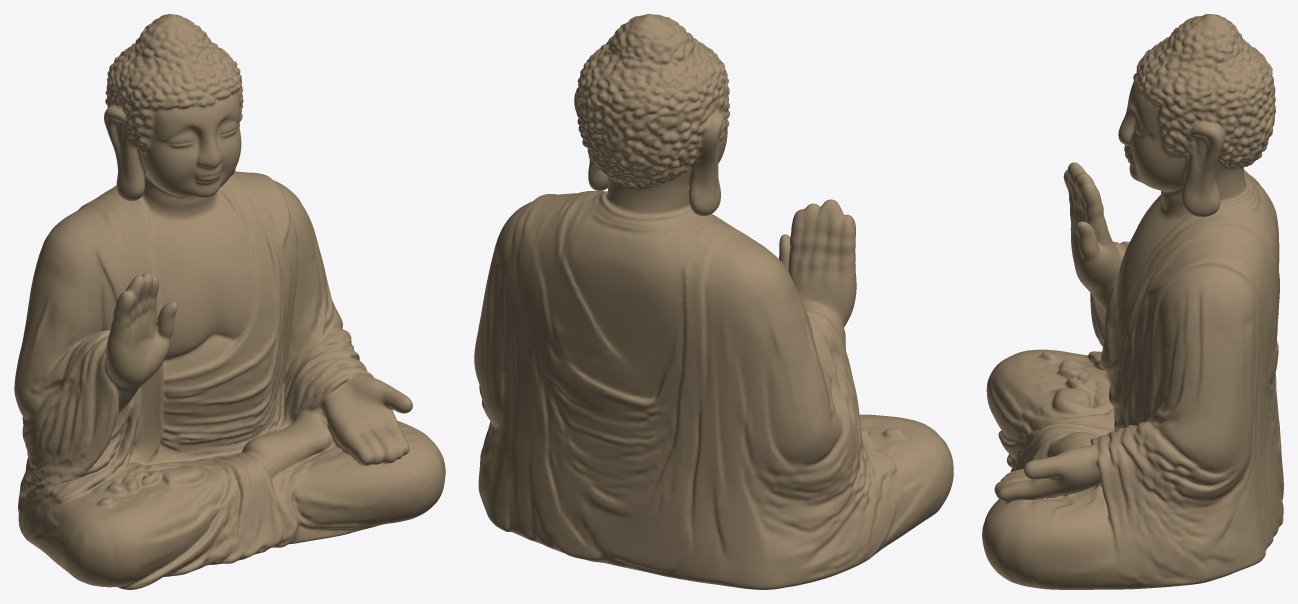
The model's file is jinding-body33.glb.
The picture shows the model from 3 angles, left to right: view 1: azimuth 30°, elevation 25°; view 2: azimuth 150°, elevation 25°; view 3: azimuth 270°, elevation 25°; orthographic projection. The views are drawn at different scales.
Parts seen in each view (by area): view 1: world; view 2: world; view 3: world.
Part boxes in pixels (left/top/right/bottom): world: left=14, top=14, right=445, bottom=589; world: left=474, top=14, right=953, bottom=589; world: left=982, top=14, right=1283, bottom=589.
Size of the model in its own units: 1.59 by 1.93 by 1.07.
